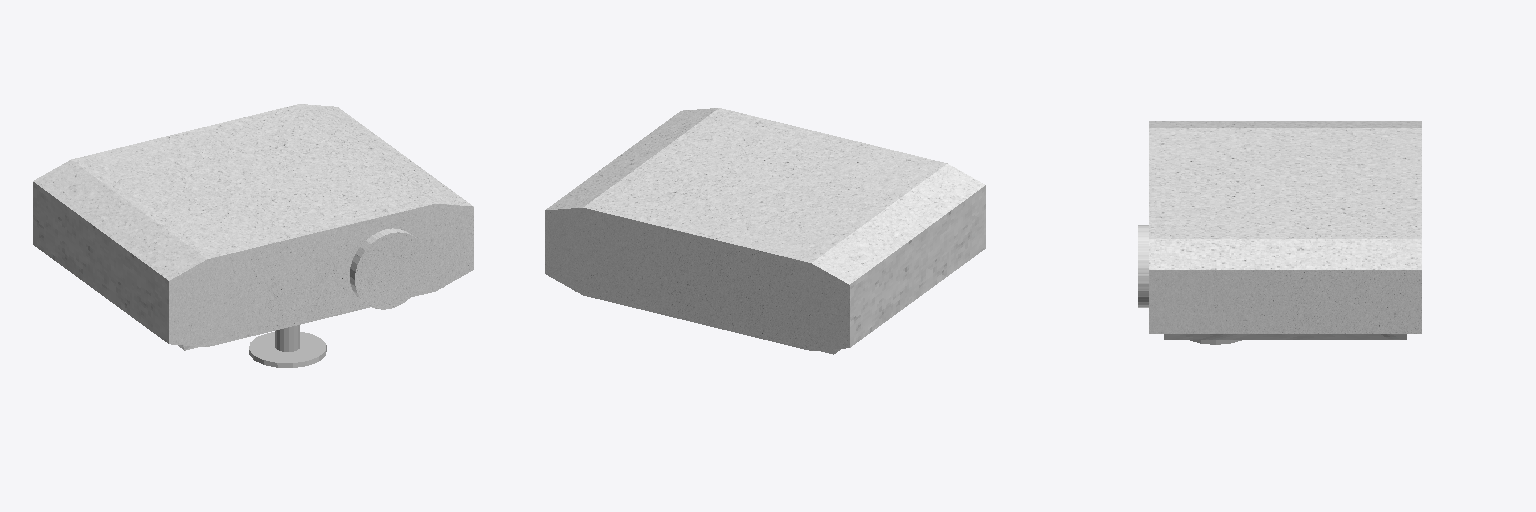
The picture shows the model from 3 angles: view 1: azimuth 30°, elevation 25°; view 2: azimuth 150°, elevation 25°; view 3: azimuth 270°, elevation 25°; orthographic projection.
Visible parts, largest first — view 1: base_Cube, foot_Cylinder; view 2: base_Cube; view 3: base_Cube.
Part boxes in pixels (left/top/right/bottom): base_Cube: left=33, top=104, right=473, bottom=350; foot_Cylinder: left=249, top=325, right=326, bottom=367; base_Cube: left=545, top=108, right=985, bottom=354; base_Cube: left=1138, top=121, right=1421, bottom=339.
Size of the model in its own units: 47 by 21.34 by 37.83.
2 materials, 1 textured.